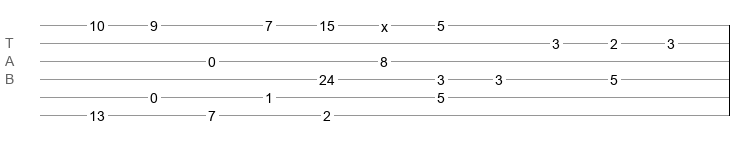0: (150, 90, 158, 100), (208, 54, 216, 64)
1: (265, 90, 273, 100)
10: (89, 18, 105, 28)
13: (89, 108, 105, 118)
15: (319, 18, 335, 28)
2: (323, 108, 331, 118), (610, 36, 618, 46)
24: (319, 72, 335, 82)
3: (437, 72, 445, 82), (495, 72, 503, 82), (552, 36, 560, 46), (667, 36, 675, 46)
5: (437, 18, 445, 28), (437, 90, 445, 100), (610, 72, 618, 82)
7: (208, 108, 216, 118), (265, 18, 273, 28)
8: (380, 54, 388, 64)
9: (150, 18, 158, 28)
x: (381, 19, 388, 27)
